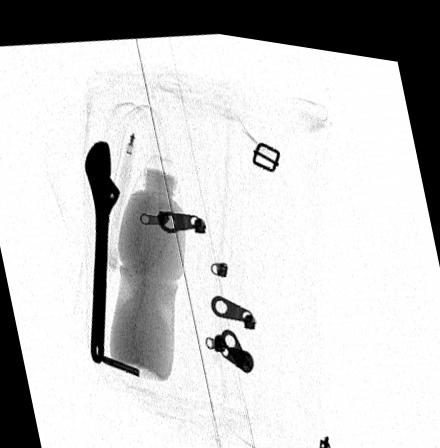Wrench: (83, 136, 120, 362)
